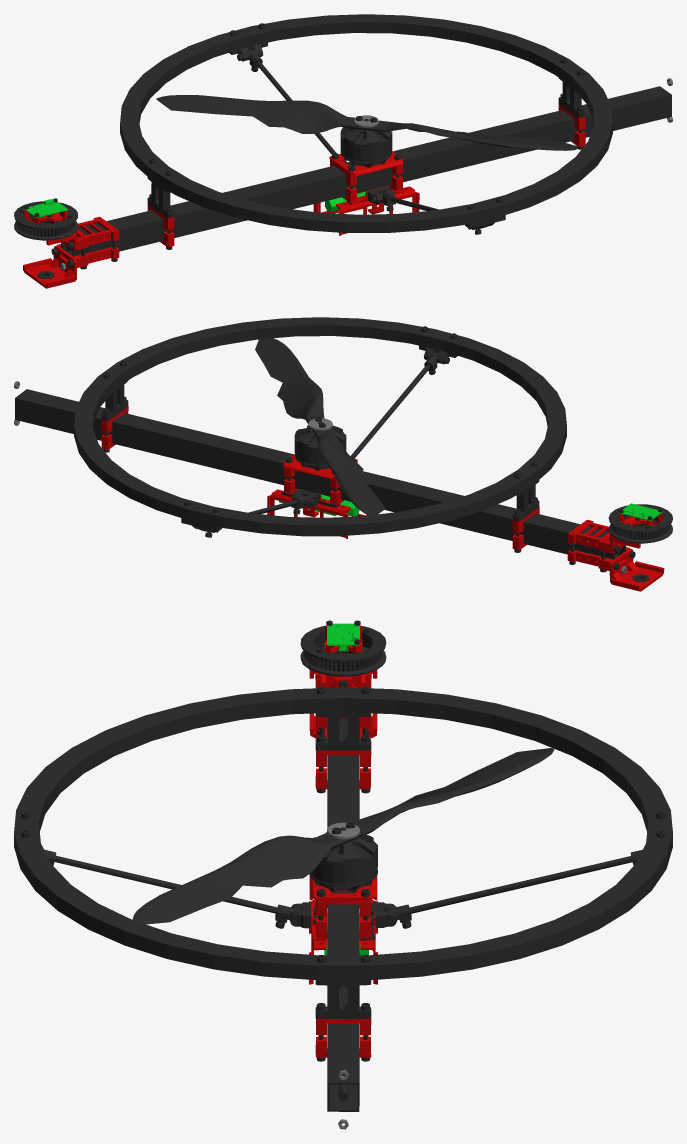
File: fix_joint_link2.dae
3 renders of one model, top to bottom at view 1: azimuth 30°, elevation 25°; view 2: azimuth 150°, elevation 25°; view 3: azimuth 270°, elevation 25°, orthographic. The views are drawn at different scales.
Parts seen in each view (by area): view 1: link2_fix_joint_black_part, link2_fix_joint_red_part, link2_fix_joint_green; view 2: link2_fix_joint_black_part, link2_fix_joint_red_part, link2_fix_joint_green; view 3: link2_fix_joint_black_part, link2_fix_joint_red_part, link2_fix_joint_green.
Part boxes in pixels (<box>): link2_fix_joint_black_part: <box>14,14,671,278</box>; link2_fix_joint_red_part: <box>23,104,585,288</box>; link2_fix_joint_green: <box>24,186,386,217</box>; link2_fix_joint_black_part: <box>15,317,672,581</box>; link2_fix_joint_red_part: <box>101,406,664,591</box>; link2_fix_joint_green: <box>279,494,663,520</box>; link2_fix_joint_black_part: <box>14,620,672,1111</box>; link2_fix_joint_red_part: <box>309,625,377,1057</box>; link2_fix_joint_green: <box>324,623,368,955</box>.
Size of the model in its own units: 0.6115 by 0.3997 by 0.0924.
